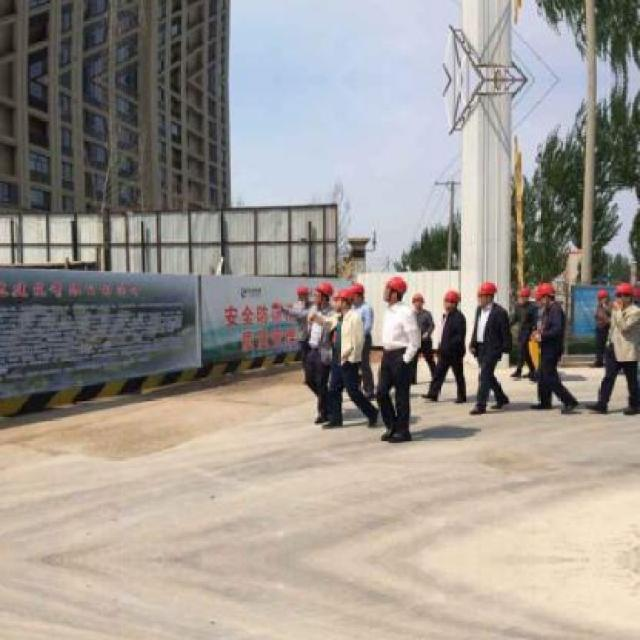helmet: (378, 274, 407, 304), (473, 278, 502, 307), (308, 280, 334, 305), (535, 278, 557, 307), (438, 286, 460, 314), (614, 278, 635, 307), (331, 286, 352, 311), (348, 280, 366, 305), (408, 289, 426, 311), (515, 283, 531, 305), (594, 286, 609, 308), (297, 282, 309, 303)
